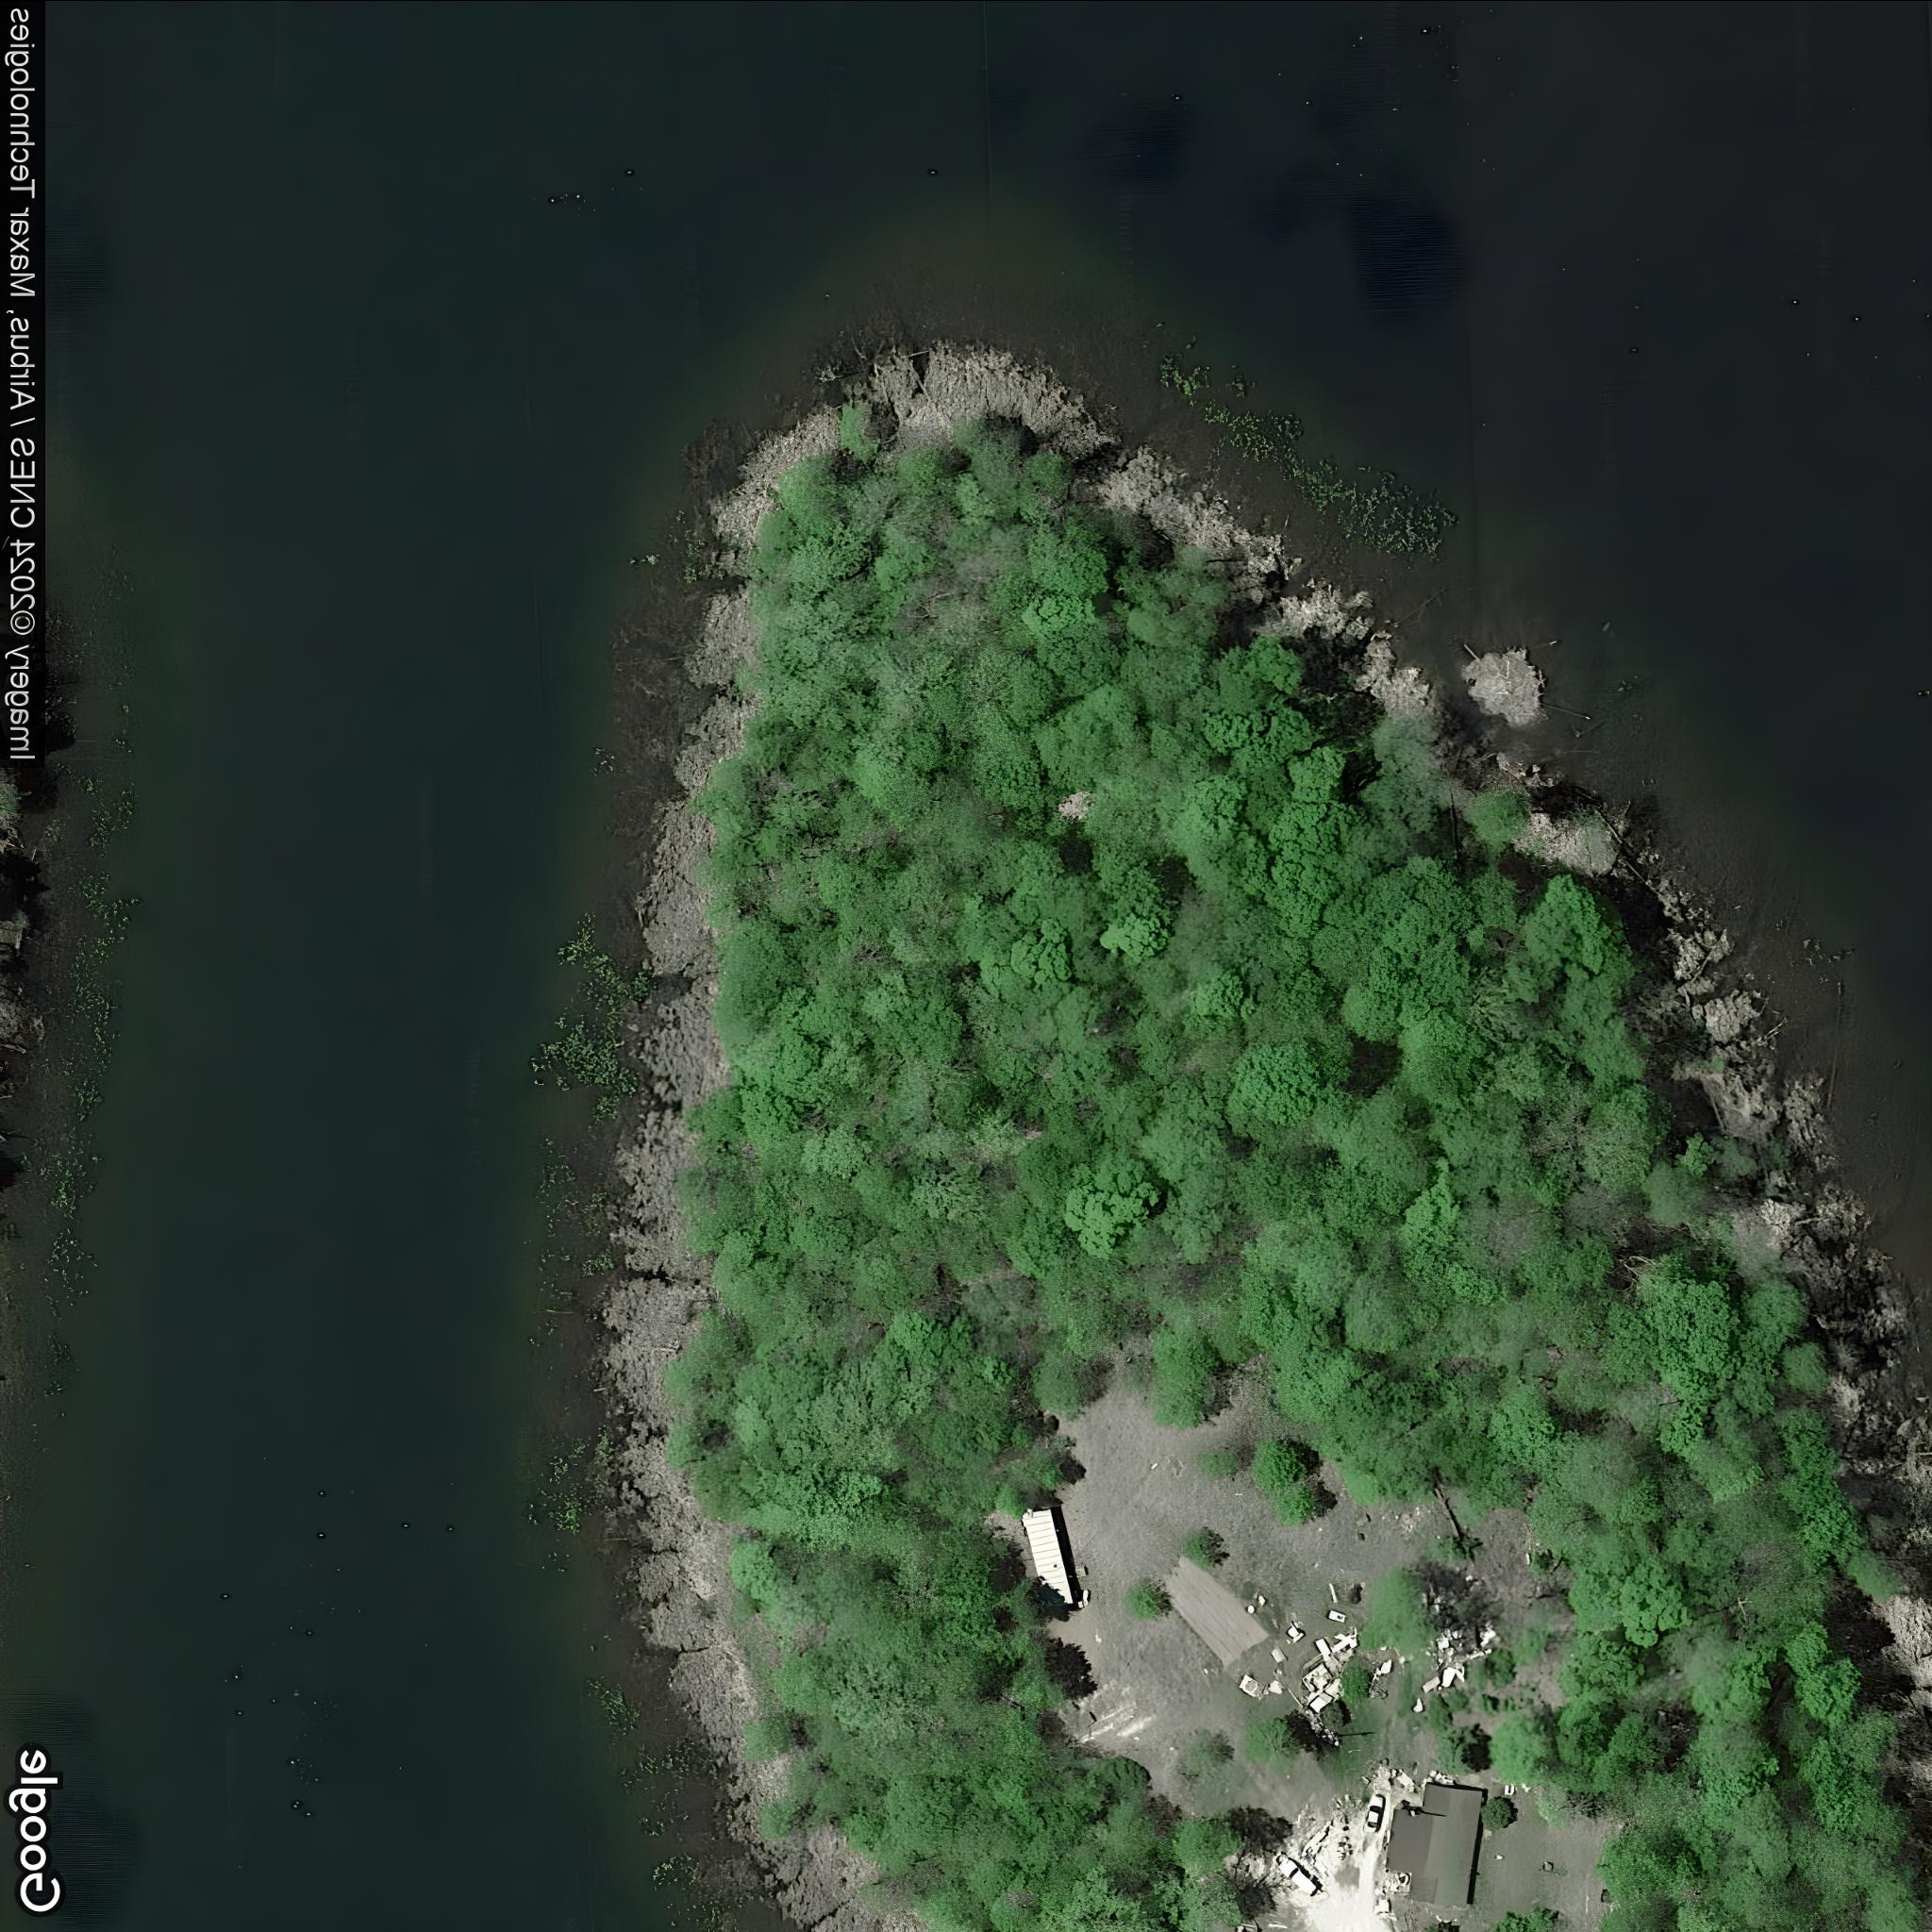House: (1385, 1780, 1486, 1909)
Trailer: (1017, 1504, 1074, 1610)
